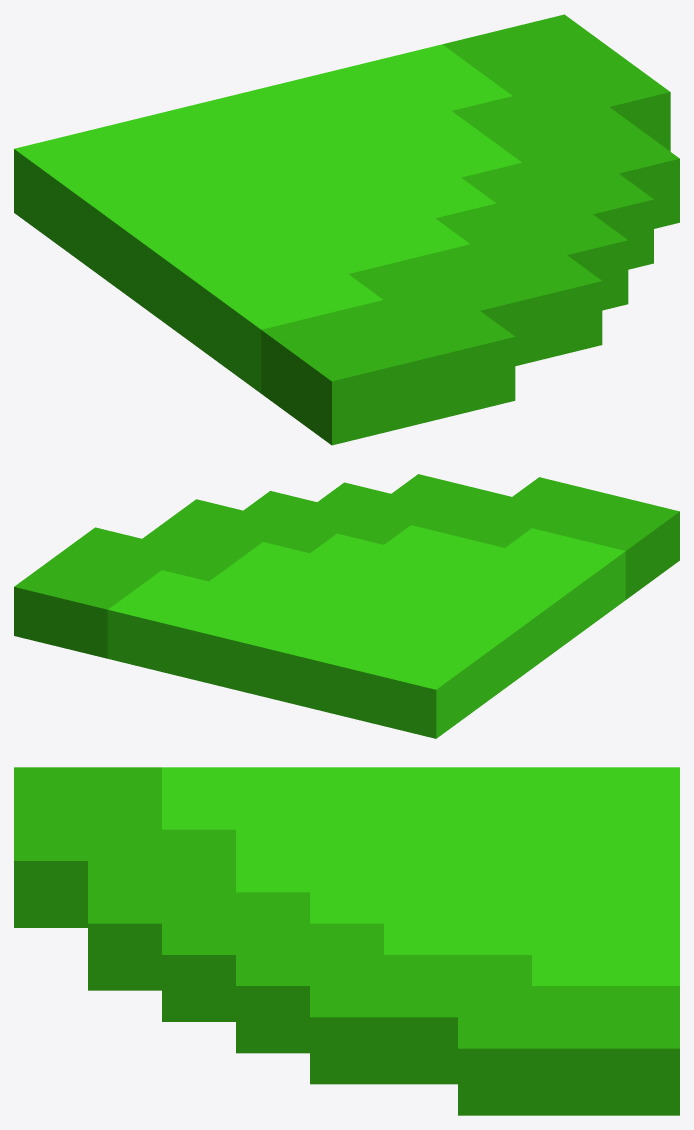
Rendered from grass_lined_circel.obj.
3 renders of one model, top to bottom at view 1: azimuth 30°, elevation 25°; view 2: azimuth 150°, elevation 25°; view 3: azimuth 270°, elevation 25°, orthographic. The views are drawn at different scales.
Size of the model in its own units: 0.9 by 0.1 by 0.9.
Materials: 1 (1 with a texture image).
